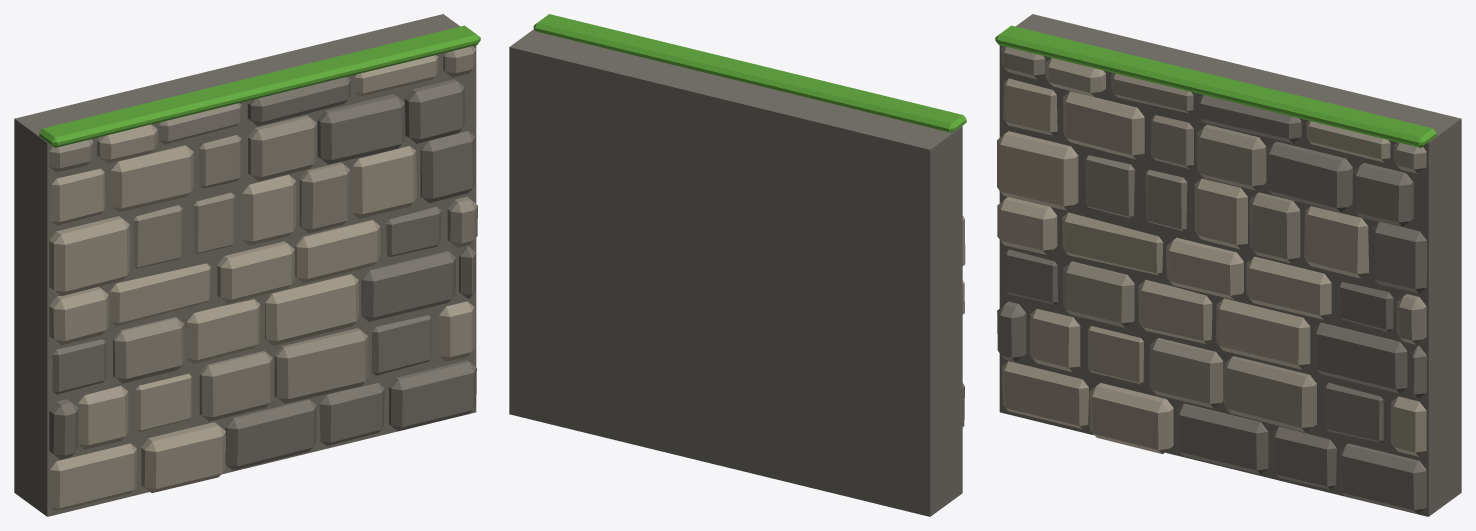
File: paredao_alto.glb
The picture shows the model from 3 angles, left to right: view 1: azimuth 30°, elevation 25°; view 2: azimuth 150°, elevation 25°; view 3: azimuth 330°, elevation 25°; orthographic projection.
Visible parts, largest first — view 1: paredao_alto; view 2: paredao_alto; view 3: paredao_alto.
Boxes of the visible parts, x1,y1,x2,y2 form: paredao_alto: [14, 14, 480, 516]; paredao_alto: [509, 14, 966, 516]; paredao_alto: [995, 14, 1461, 516].
Size of the model in its own units: 6 by 5.1 by 1.01.
